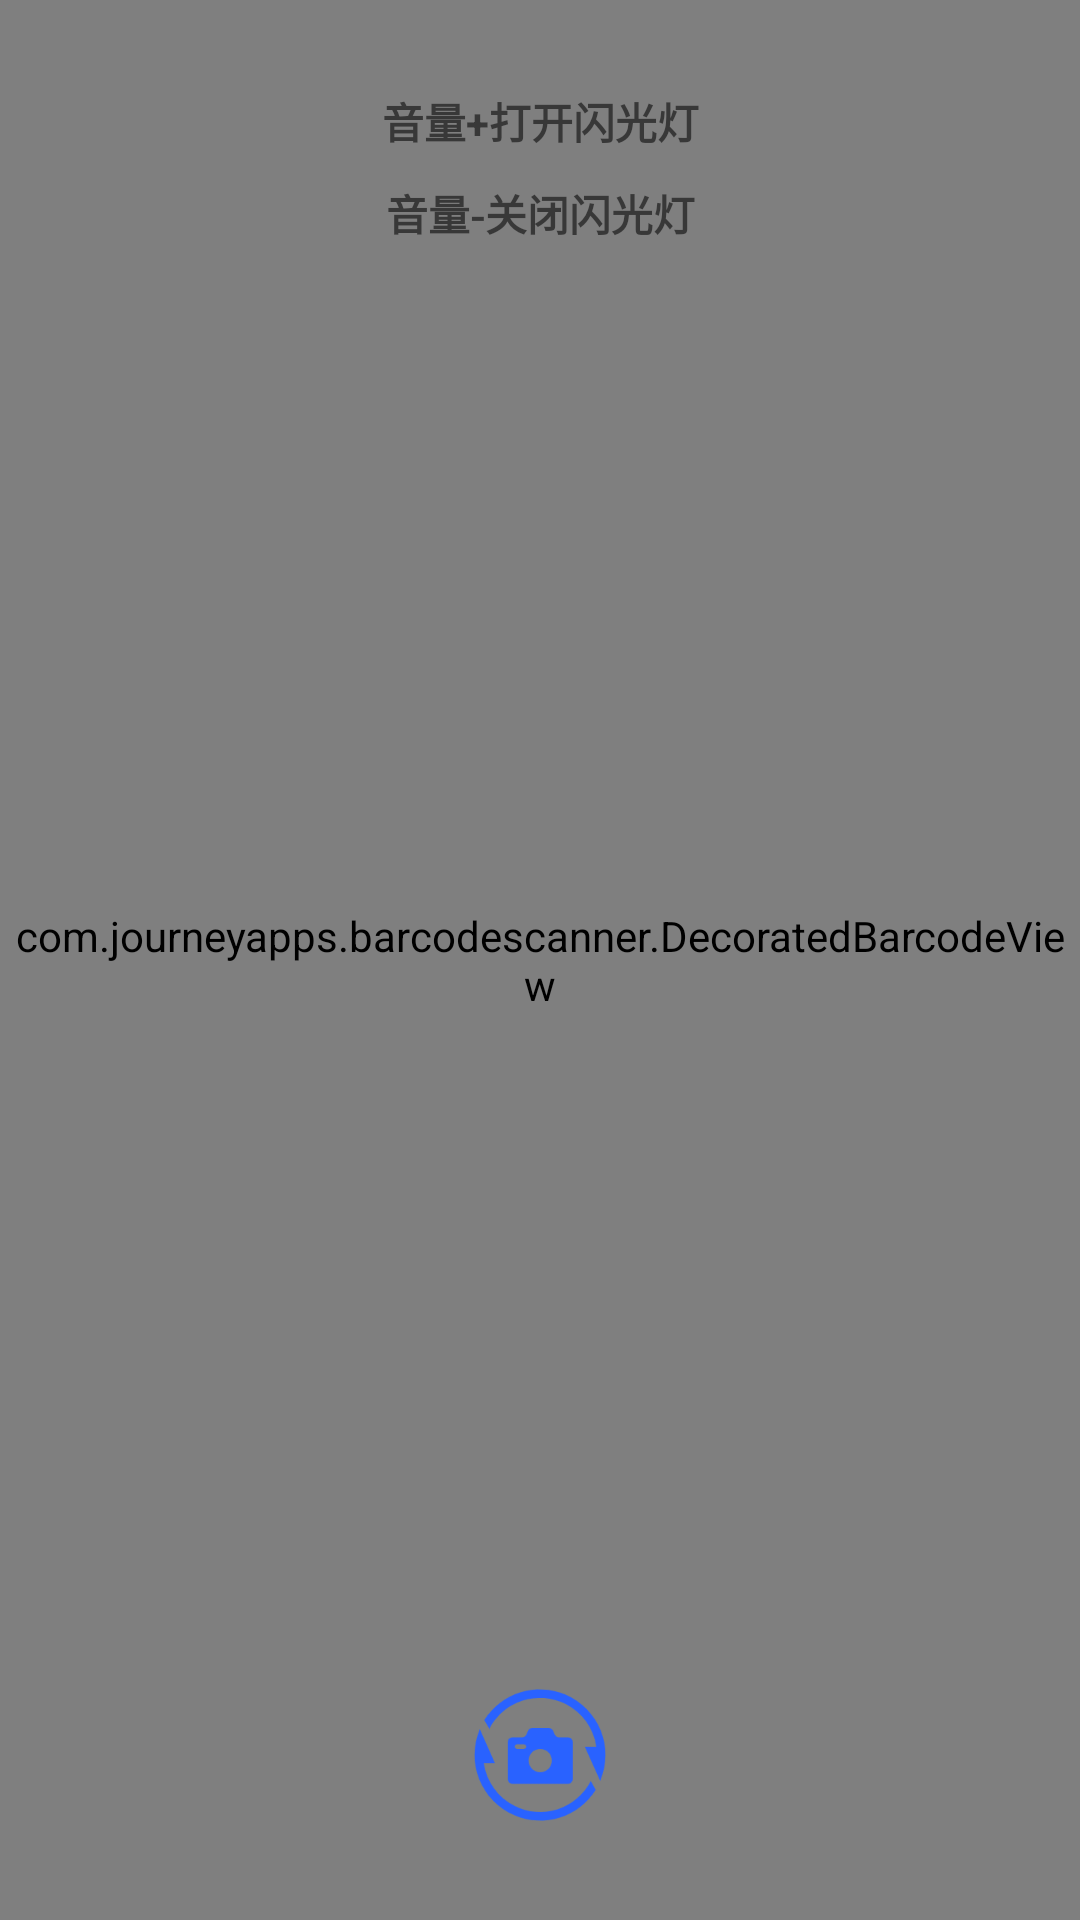

Where to tap for icons on this 1080×1920 app screen, as point (x, y):
zxing switch camera: point (540, 1755)
